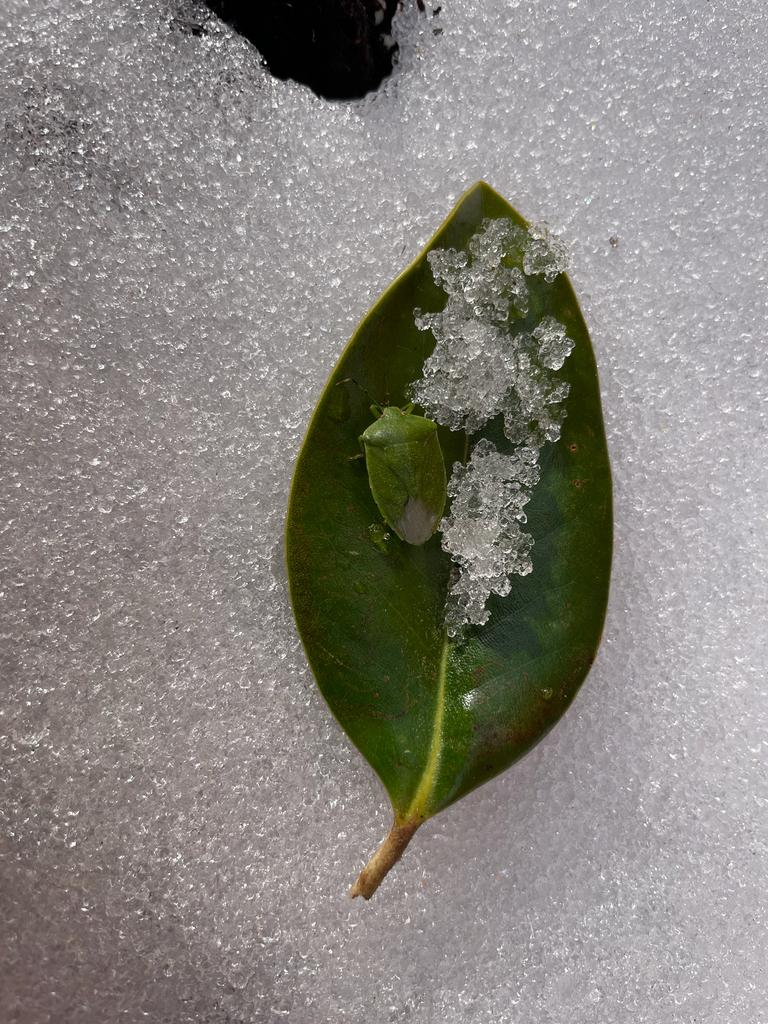stink_bugs: (317, 345, 470, 577)
